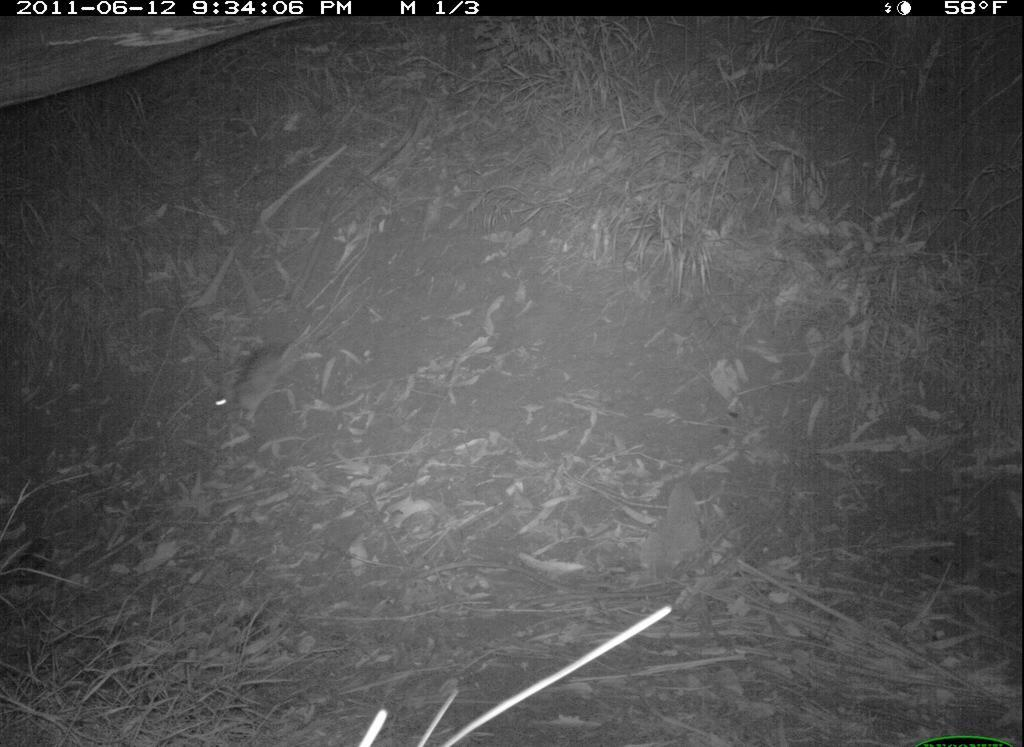rabbit: (190, 322, 336, 468)
